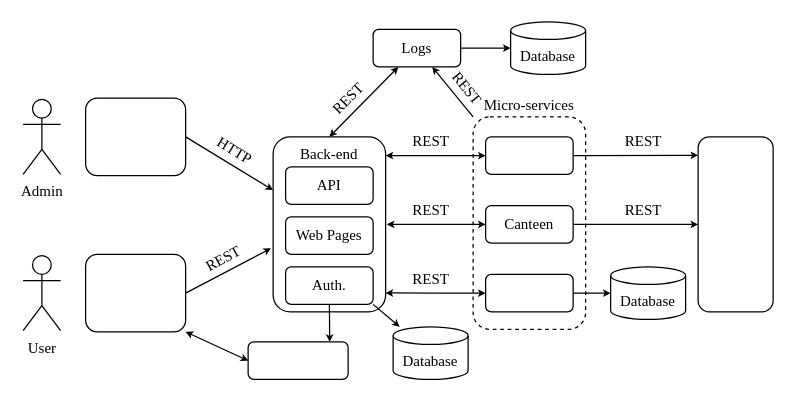
The diagram is 795 pixels wide and 401 high, and some of its shapes have lost their labels. The shapes that lost their labels are listed below. From the top down, each one's centre as x and y in pixels, then its label:
At point (135, 136): "Browser".
At point (528, 155): "Rooms".
At point (735, 224): "Fenix".
At point (135, 292): "Mobile App or Browser".
At point (528, 292): "Secretariats".
At point (297, 360): "OAuth".
